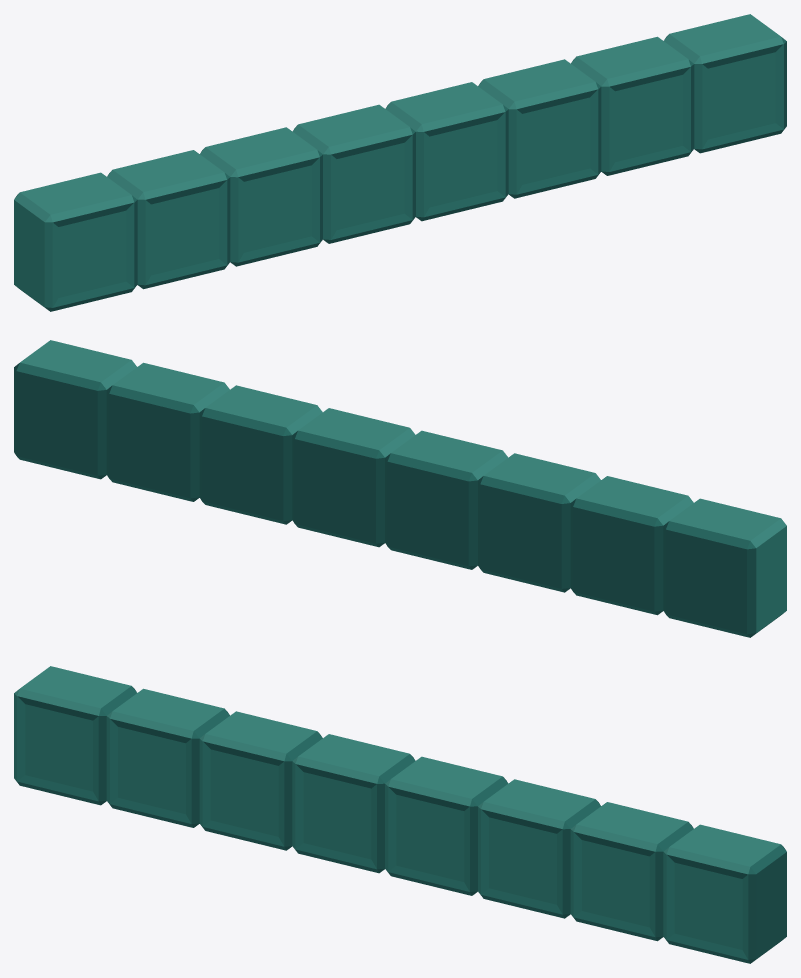
The model's file is Terrain_Block8x1.gltf.
3 renders of one model, top to bottom at view 1: azimuth 30°, elevation 25°; view 2: azimuth 150°, elevation 25°; view 3: azimuth 330°, elevation 25°, orthographic.
Parts seen in each view (by area): view 1: Terrain_Block8x1_baked; view 2: Terrain_Block8x1_baked; view 3: Terrain_Block8x1_baked.
Boxes of the visible parts, x1,y1,x2,y2 form: Terrain_Block8x1_baked: [14, 14, 786, 311]; Terrain_Block8x1_baked: [14, 340, 786, 637]; Terrain_Block8x1_baked: [14, 666, 786, 963].
Bounding box in the file's own units: 8 × 1 × 0.6822.
